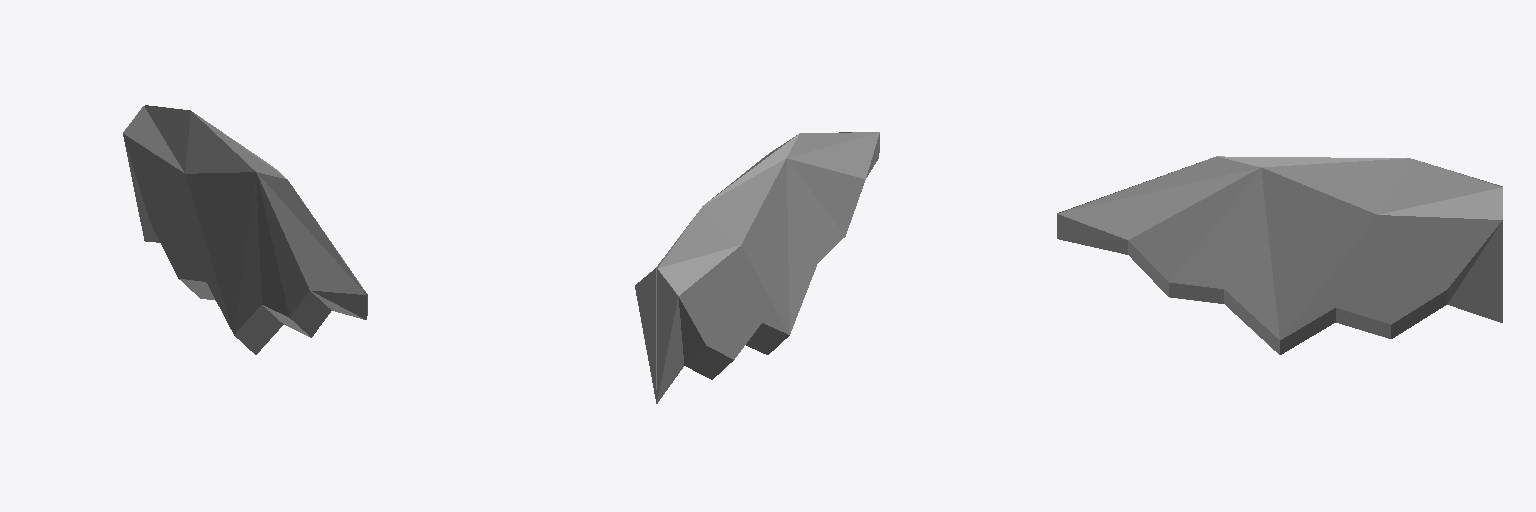
The model's file is wind.obj.
3 renders of one model, left to right at view 1: azimuth 30°, elevation 25°; view 2: azimuth 150°, elevation 25°; view 3: azimuth 270°, elevation 25°, orthographic.
Parts seen in each view (by area): view 1: Cube; view 2: Cube; view 3: Cube.
Boxes of the visible parts, x1,y1,x2,y2 form: Cube: [123, 105, 367, 354]; Cube: [635, 132, 879, 403]; Cube: [1057, 156, 1502, 354].
Bounding box in the file's own units: 0.4384 × 1.9 × 3.86.